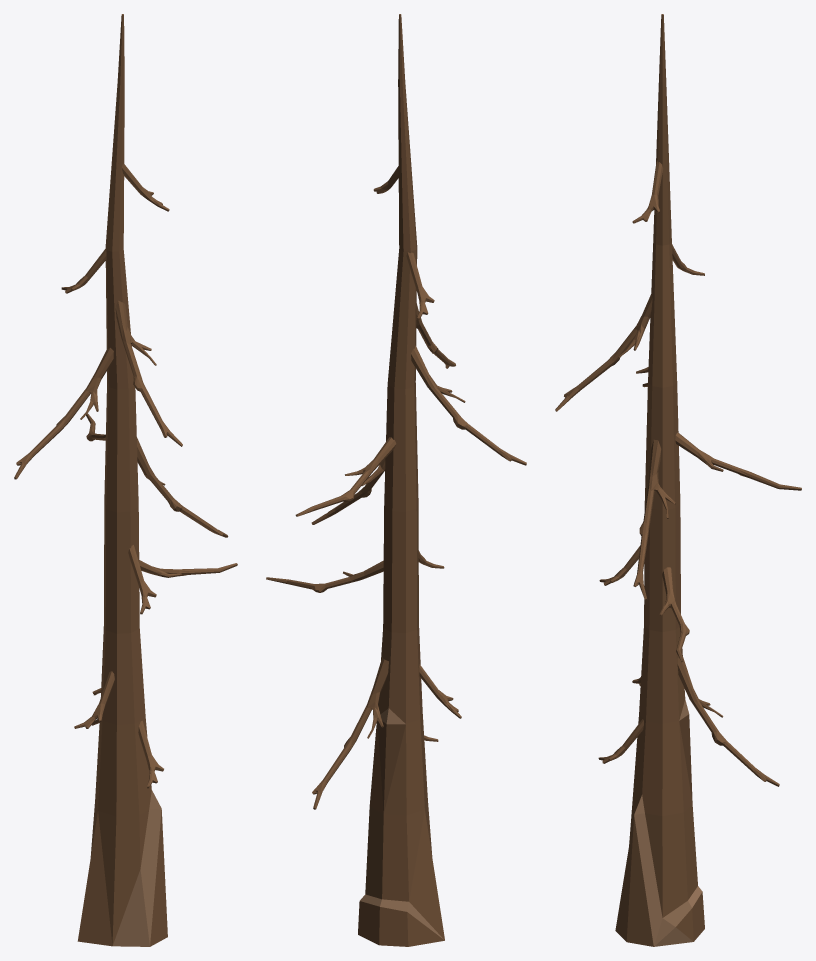
File: mesh_tree_pine_01_dead.fbx
3 renders of one model, left to right at view 1: azimuth 30°, elevation 25°; view 2: azimuth 150°, elevation 25°; view 3: azimuth 270°, elevation 25°, orthographic.
Parts seen in each view (by area): view 1: mesh_tree_pine_01_dead_LOD0; view 2: mesh_tree_pine_01_dead_LOD0; view 3: mesh_tree_pine_01_dead_LOD0.
Boxes of the visible parts, x1,y1,x2,y2 form: mesh_tree_pine_01_dead_LOD0: (14,14,237,946); mesh_tree_pine_01_dead_LOD0: (266,14,526,946); mesh_tree_pine_01_dead_LOD0: (555,14,801,946).
Size of what is drawn, in the model's own units: 3.59 by 13 by 3.18.
